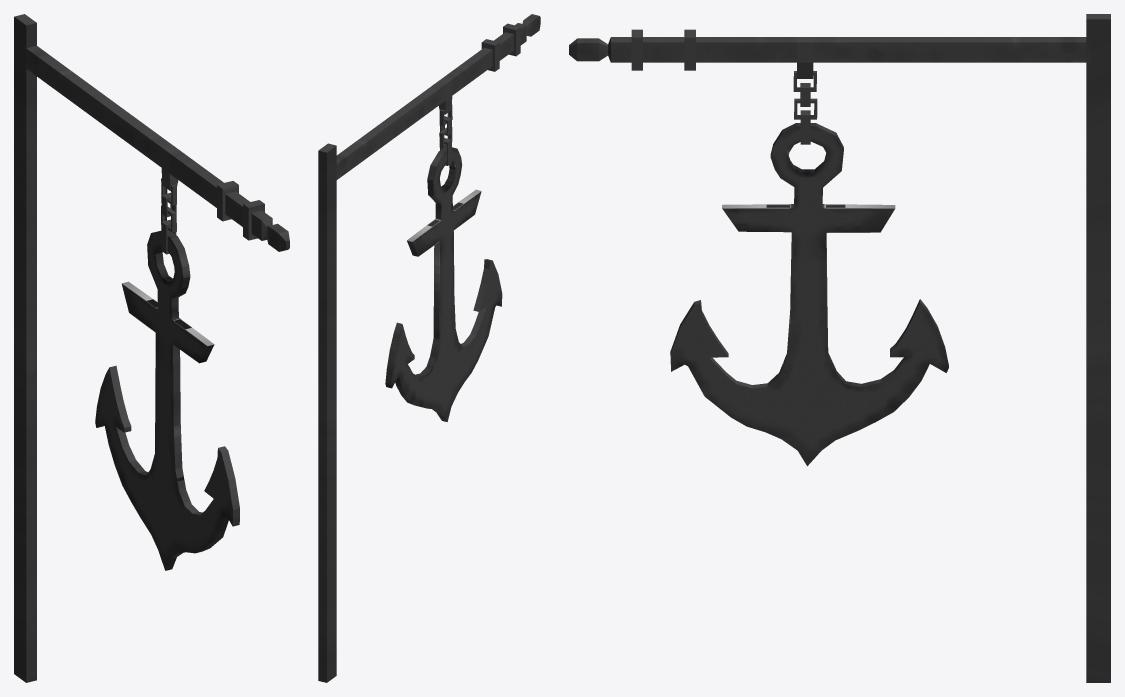
File: sign_361x09.obj
3 renders of one model, left to right at view 1: azimuth 30°, elevation 25°; view 2: azimuth 150°, elevation 25°; view 3: azimuth 270°, elevation 25°, orthographic. The views are drawn at different scales.
Parts seen in each view (by area): view 1: Sign_361x9; view 2: Sign_361x9; view 3: Sign_361x9.
Boxes of the visible parts, bbox=[...] form: Sign_361x9: bbox=[14, 14, 289, 682]; Sign_361x9: bbox=[318, 14, 540, 682]; Sign_361x9: bbox=[569, 14, 1110, 682].
Size of the model in its own units: 0.1046 by 4.01 by 2.96.
